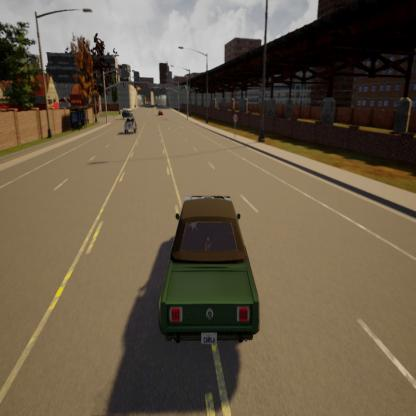Cars: (141, 187, 266, 359), (123, 115, 138, 136), (120, 107, 135, 122), (157, 108, 164, 118)
